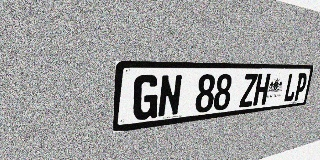8: (194, 74, 217, 113), (212, 74, 234, 111)
G: (132, 75, 160, 121)
H: (253, 73, 271, 106)
L: (283, 73, 299, 102)
N: (157, 74, 183, 118)
P: (293, 73, 308, 101)
Z: (239, 74, 258, 108)
